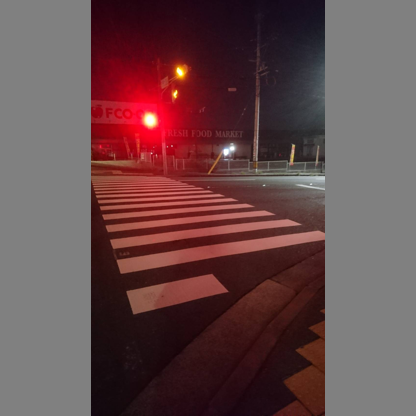crosswalk: (92, 177, 321, 326)
